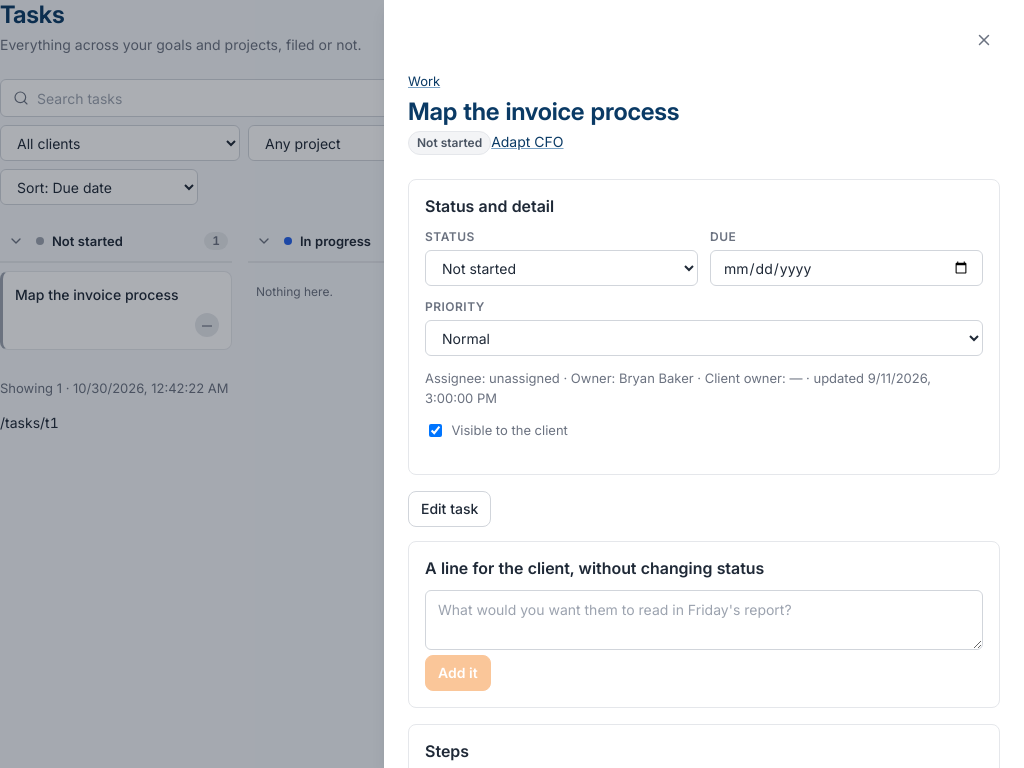
the task sheet: what closes it and what does not › keeps the sheet open on an inline change and confirms it there
Select "Urgent" in the dropdown named "Priority": (704, 338) [425, 320, 983, 356]
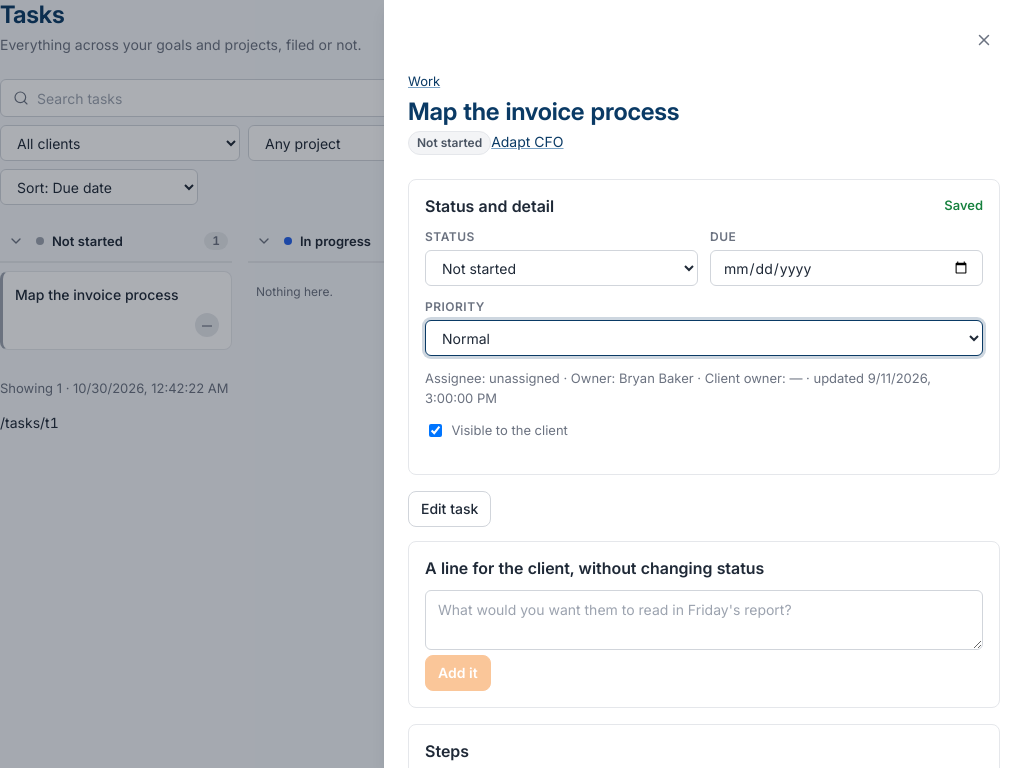
Expected: the text "Saved" is shown, [944, 196, 983, 216]
